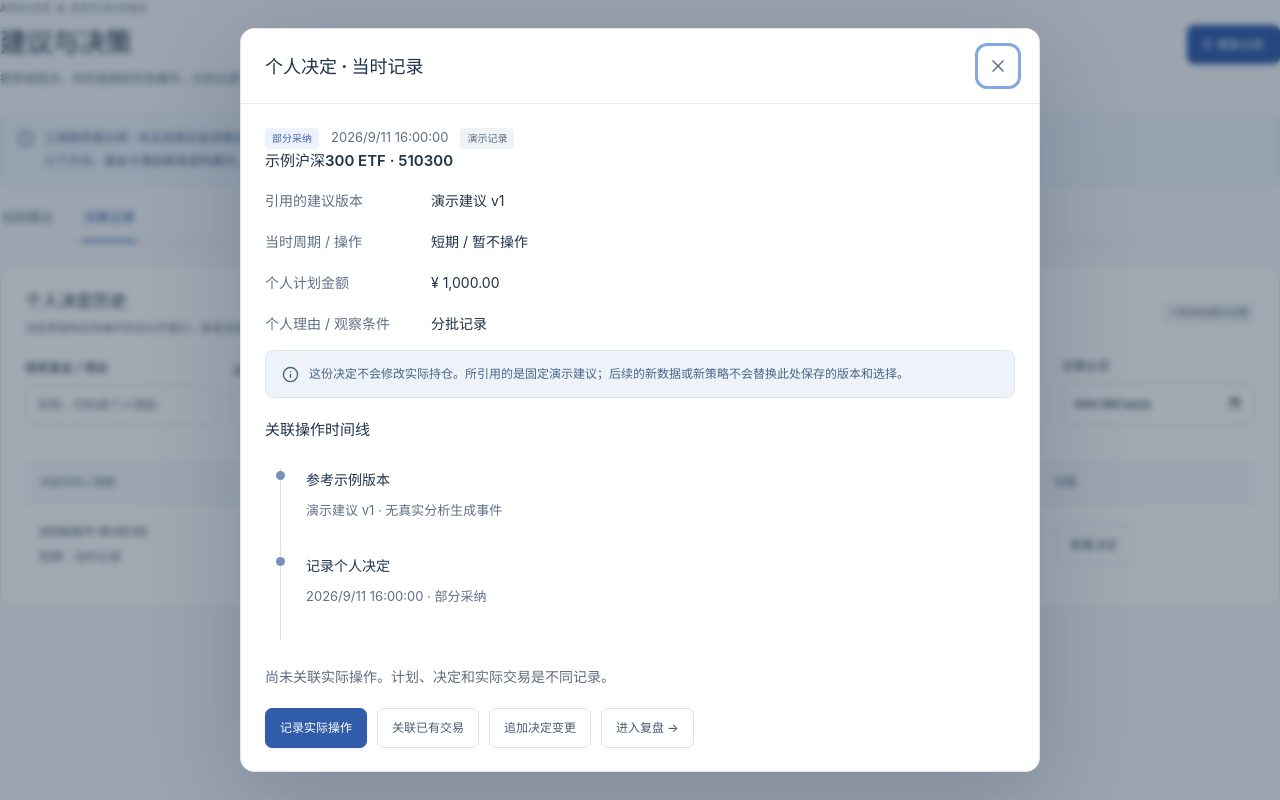
Test: 建议与决定交互 › 关联已有交易后交易数量和金额保持不变，重新关联入口排除原记录
Click the button "关联已有交易".
click(428, 728)  # box [377, 708, 479, 748]
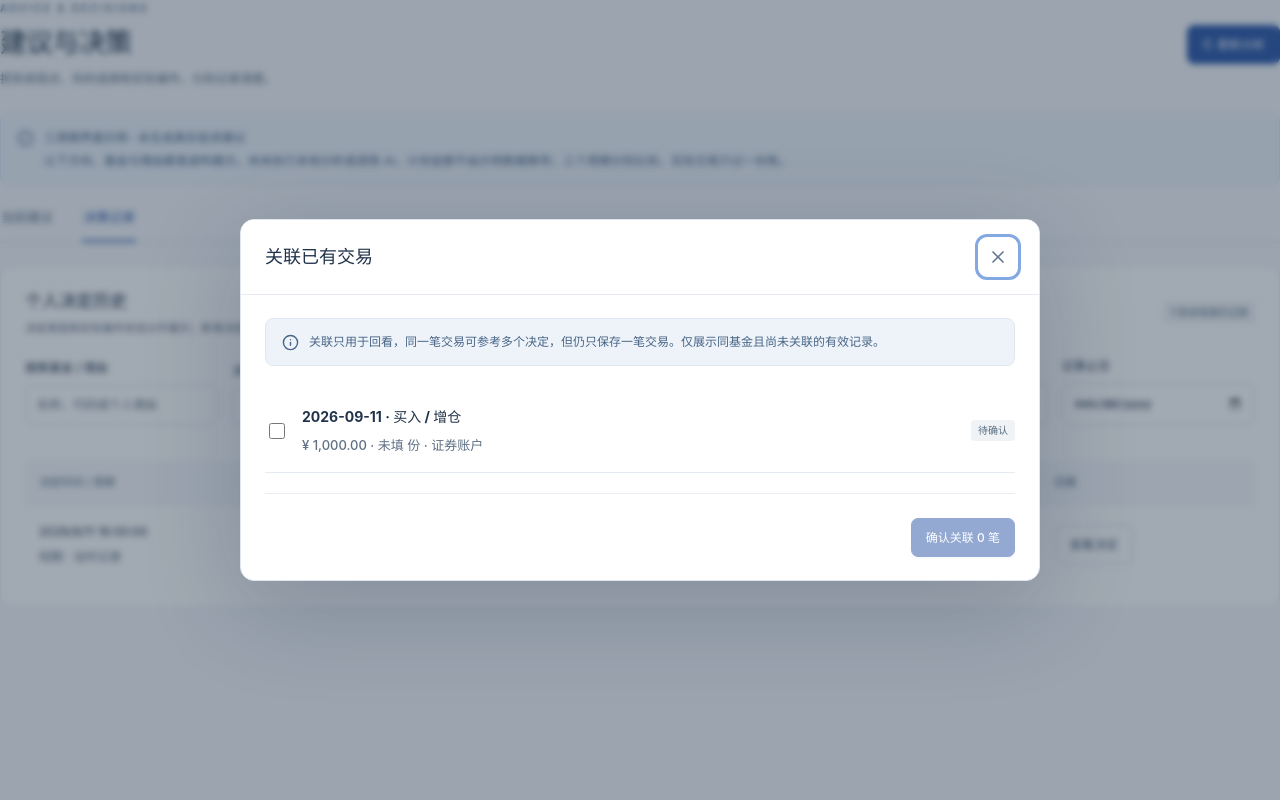
Click the checkbox.
click(277, 431)  # box [269, 423, 285, 439]
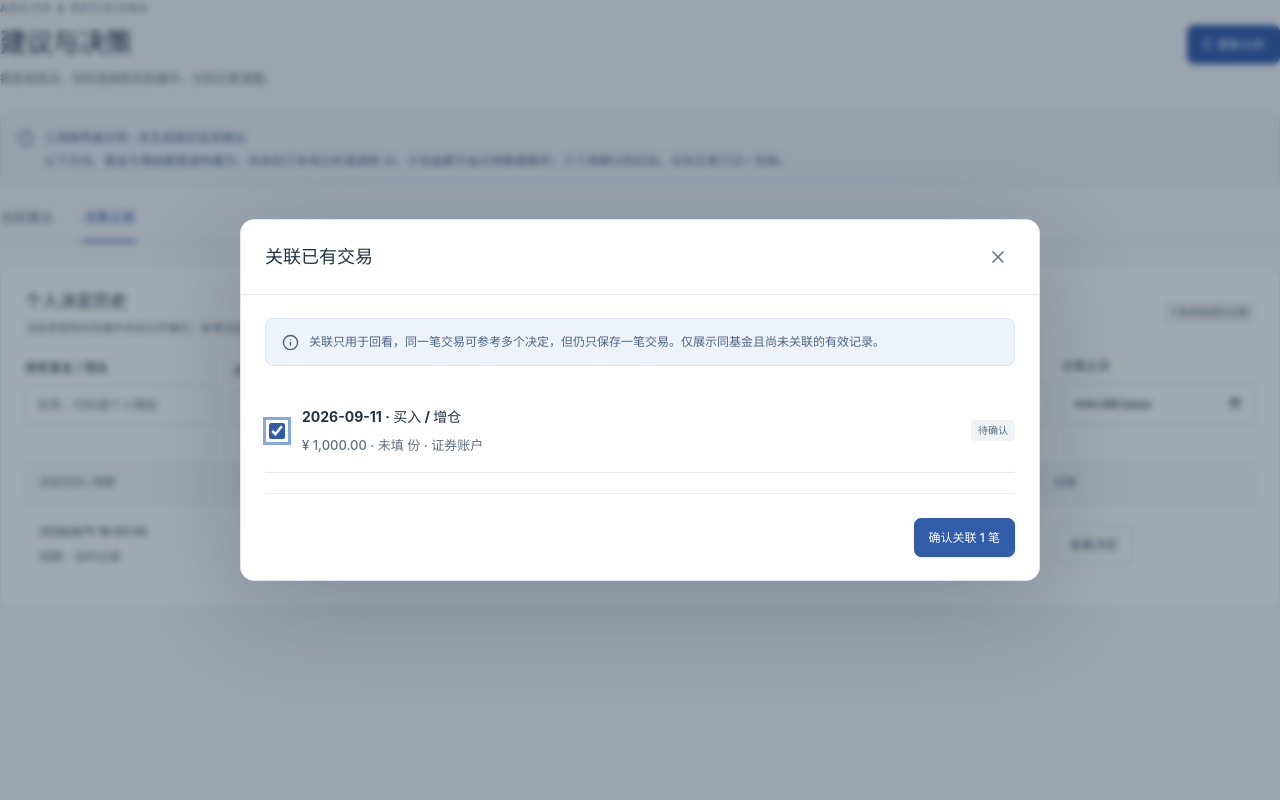
Click the button "确认关联 1 笔".
click(964, 537)  # box [914, 518, 1015, 557]
(page scrolled)
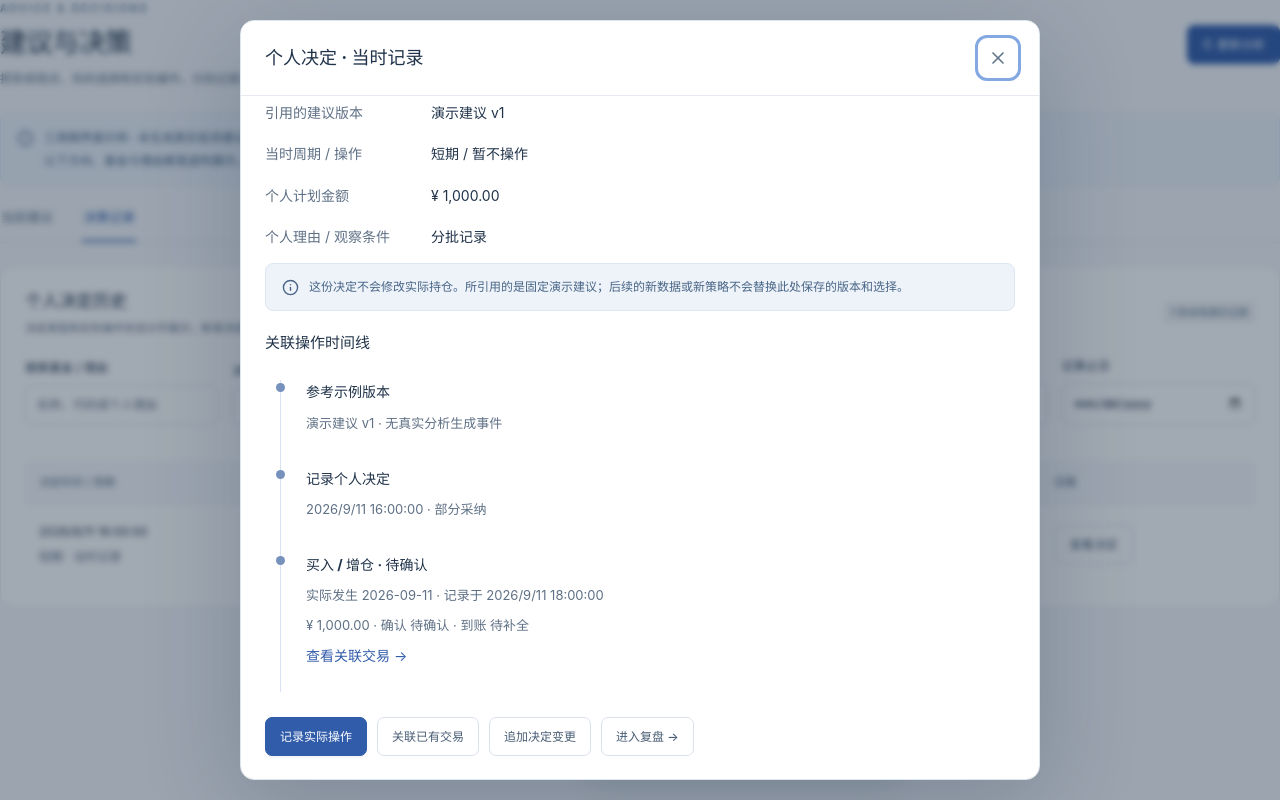
Click the button "关联已有交易".
click(428, 737)  # box [377, 717, 479, 756]
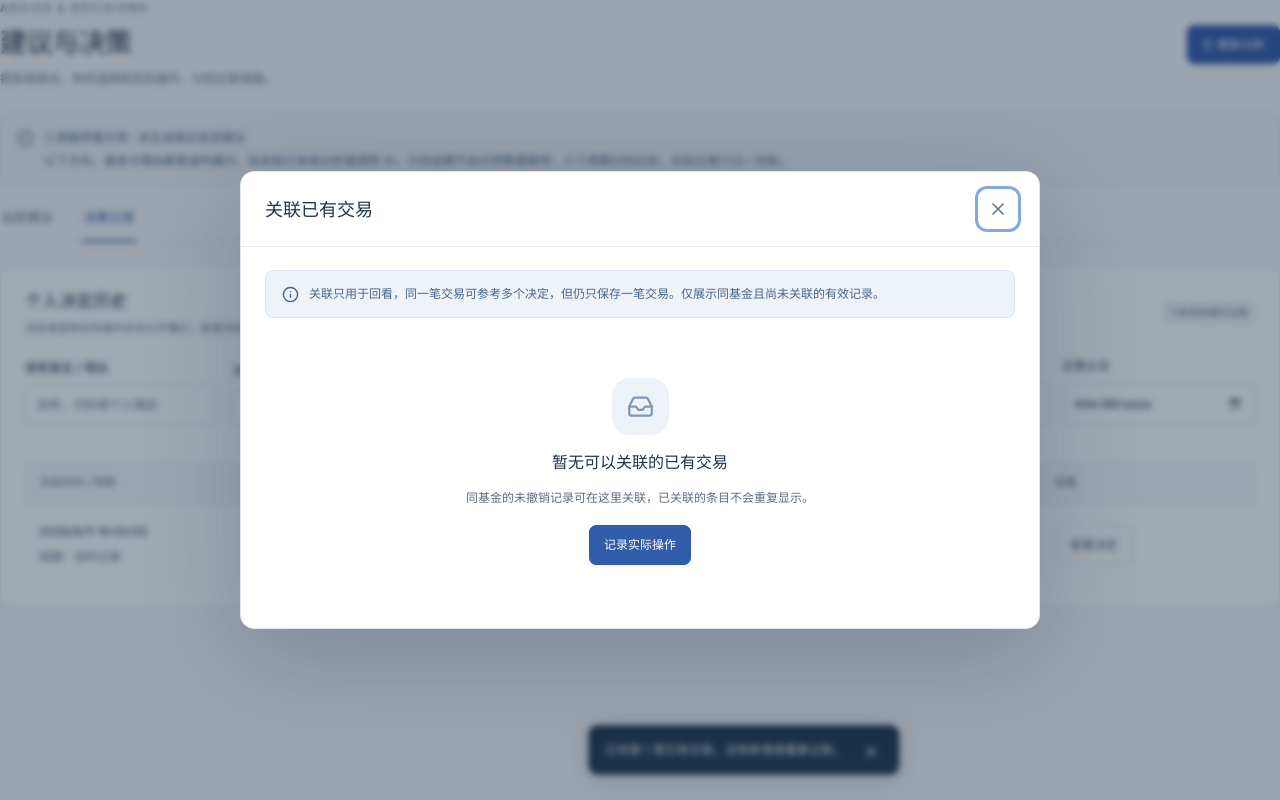
Expected: the heading "暂无可以关联的已有交易" is shown, [552, 449, 728, 476]
